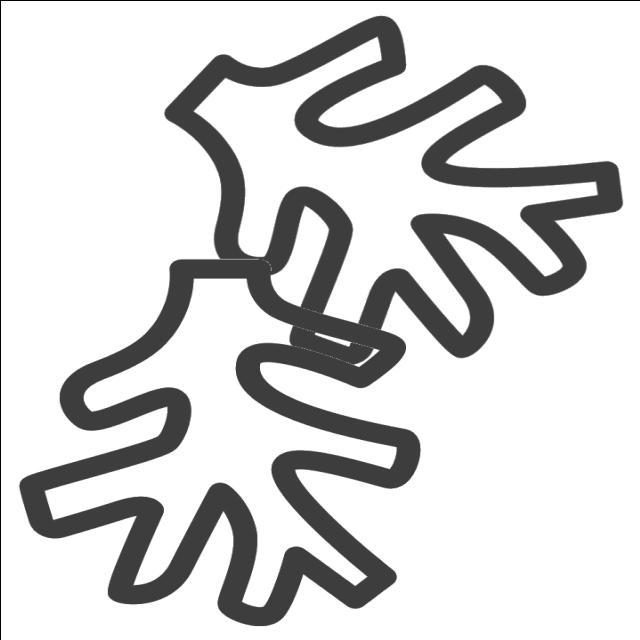coral: (145, 11, 633, 368), (12, 248, 442, 636)
